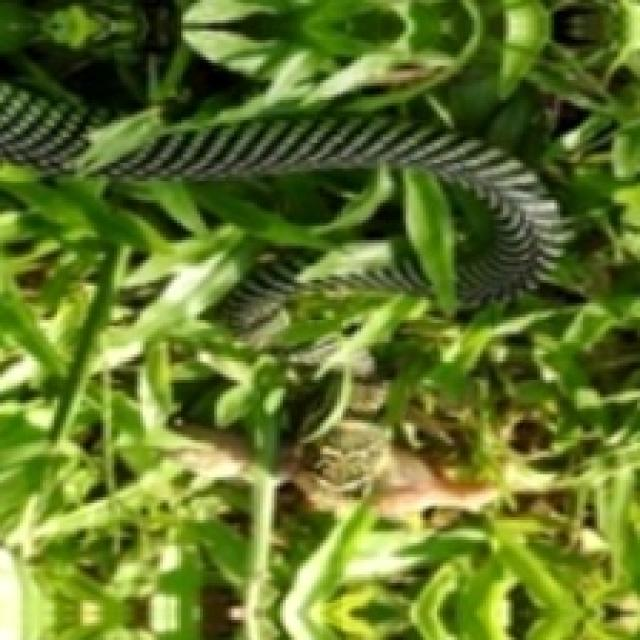paradise tree snake: (0, 0, 563, 303), (0, 83, 563, 297)
